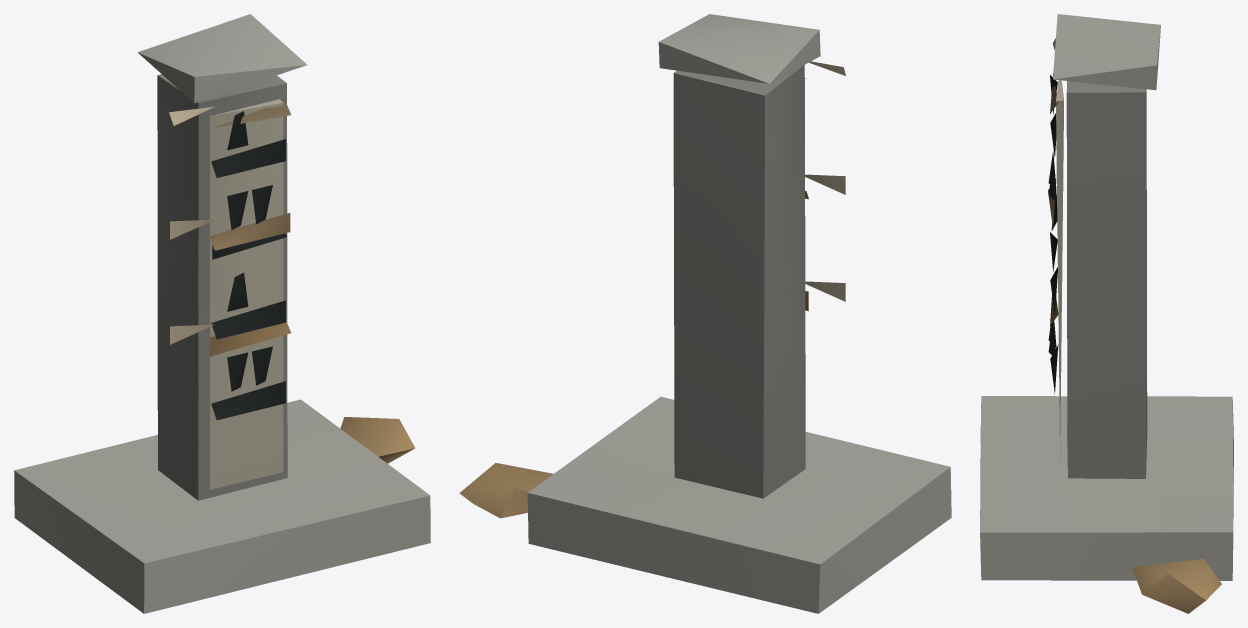
File: flood_staff_a_lod2.glb
The picture shows the model from 3 angles, left to right: view 1: azimuth 30°, elevation 25°; view 2: azimuth 150°, elevation 25°; view 3: azimuth 270°, elevation 25°; orthographic projection. The views are drawn at different scales.
Parts seen in each view (by area): view 1: Surface.001; view 2: Surface.001; view 3: Surface.001.
Boxes of the visible parts, x1,y1,x2,y2 form: Surface.001: [14, 14, 430, 613]; Surface.001: [459, 14, 951, 613]; Surface.001: [980, 14, 1233, 613].
Bounding box in the file's own units: 2.04 × 2.58 × 1.25.
